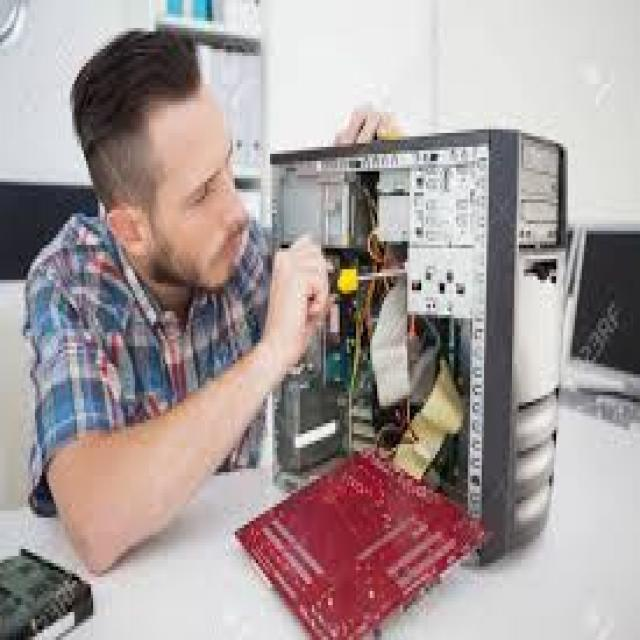screwdriver: (309, 258, 398, 304)
